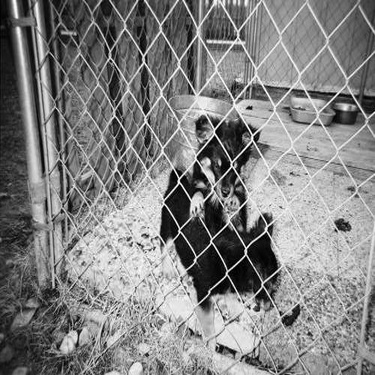dog: (143, 167, 302, 368), (178, 106, 268, 248)
